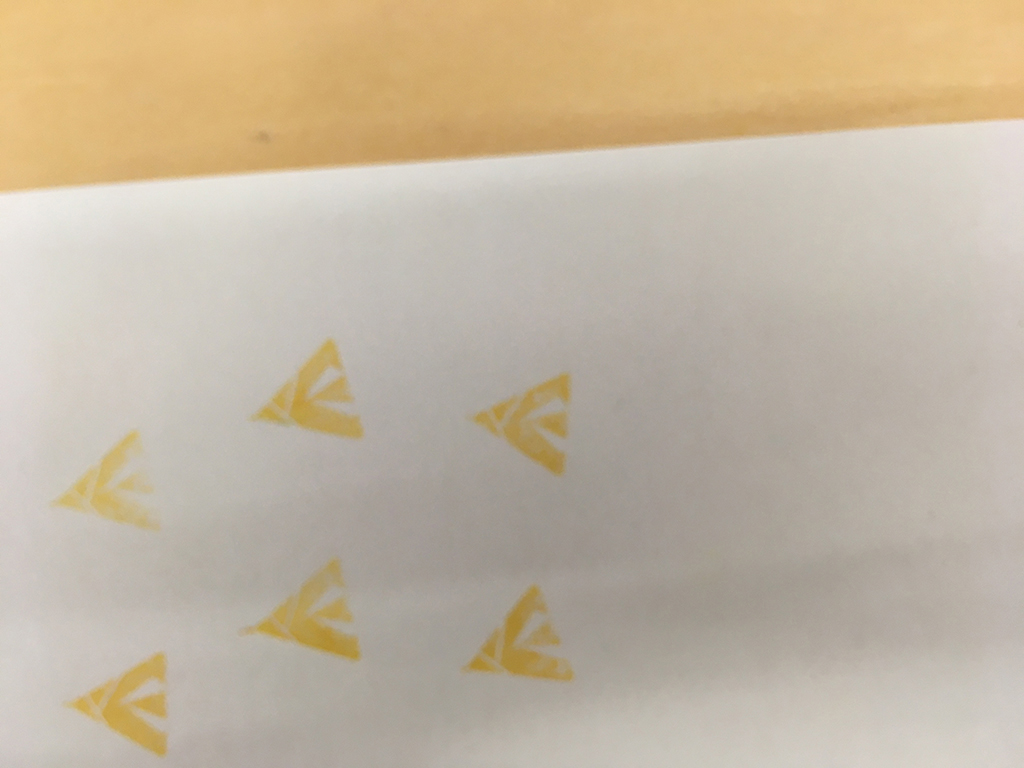tent: (238, 329, 373, 452), (232, 546, 364, 669), (43, 421, 173, 538), (459, 369, 583, 482), (67, 647, 182, 762), (460, 576, 577, 687)
